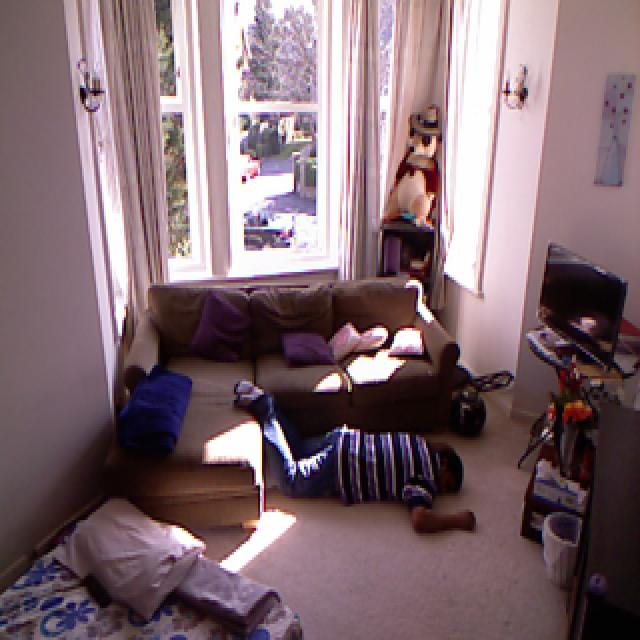lying: (227, 375, 478, 540)
